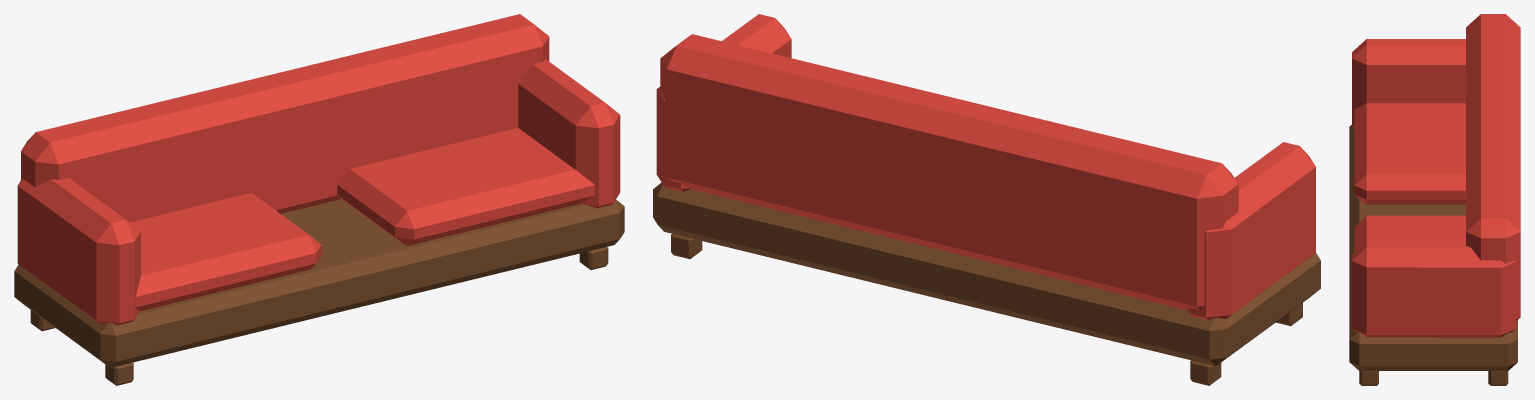
The model's file is lobby_sofa.glb.
3 views of the same model, side by side, from view 1: azimuth 30°, elevation 25°; view 2: azimuth 150°, elevation 25°; view 3: azimuth 270°, elevation 25° (orthographic). The views are drawn at different scales.
Parts seen in each view (by area): view 1: lobby_sofa; view 2: lobby_sofa; view 3: lobby_sofa.
Boxes of the visible parts, <box> form: lobby_sofa: <box>14,14,624,385</box>; lobby_sofa: <box>653,14,1320,385</box>; lobby_sofa: <box>1349,14,1520,385</box>.
Size of the model in its own units: 2.12 by 0.74 by 0.69.
